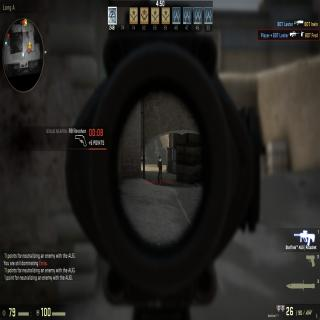T-Body: (157, 155, 163, 184)
T-Head: (158, 156, 161, 162)
